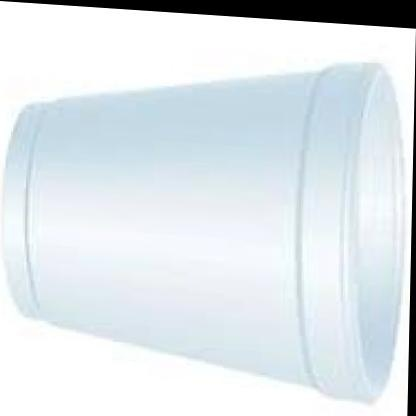trash: (3, 63, 409, 400)
